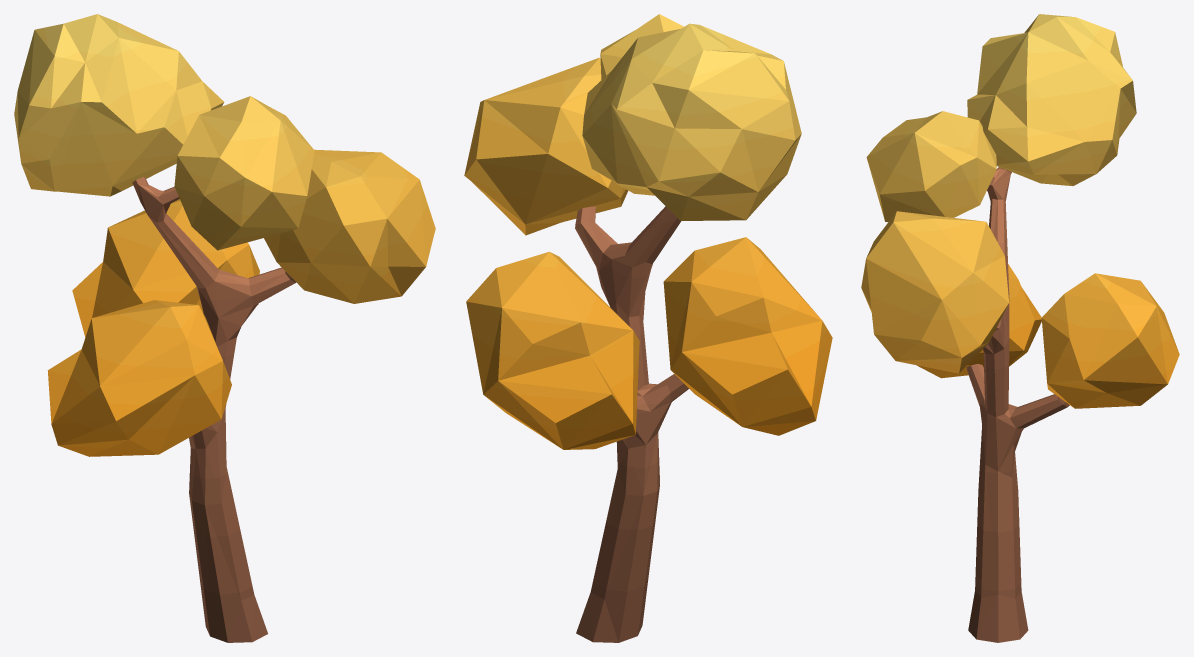
Rendered from tree_autumn.glb.
The picture shows the model from 3 angles, left to right: view 1: azimuth 30°, elevation 25°; view 2: azimuth 150°, elevation 25°; view 3: azimuth 270°, elevation 25°; orthographic projection. The views are drawn at different scales.
Parts seen in each view (by area): view 1: tree_autumn; view 2: tree_autumn; view 3: tree_autumn.
Part boxes in pixels (x1,y1,x2,y2): tree_autumn: (14, 14, 435, 642); tree_autumn: (464, 14, 832, 642); tree_autumn: (861, 14, 1179, 642).
Size of the model in its own units: 3.23 by 5.4 by 2.75.
Materials: 1 (1 with a texture image).
